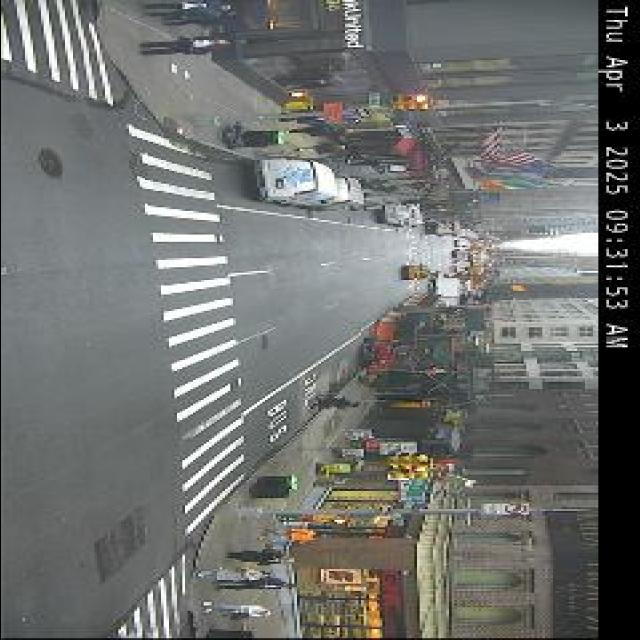open parking: (342, 190, 394, 225)
parkedCars: (248, 158, 436, 238)
